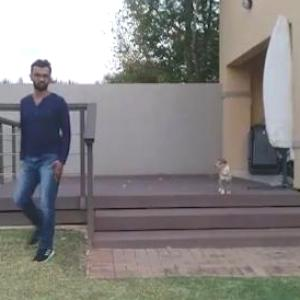follow: (18, 51, 86, 276)
